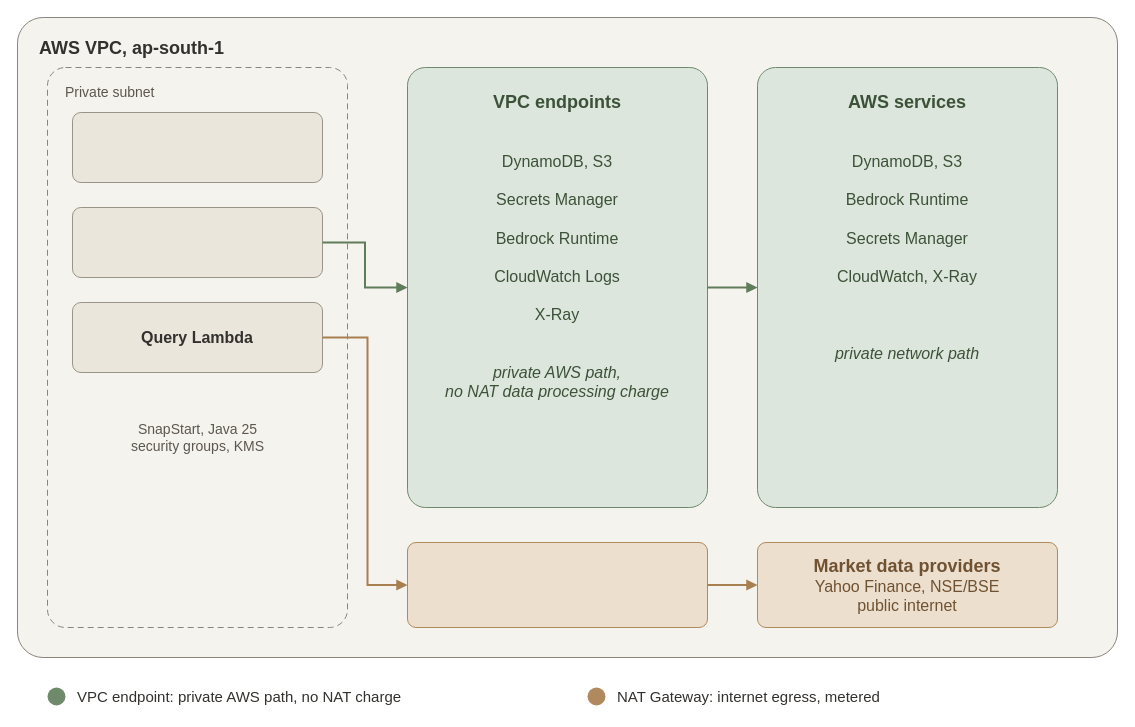
This 1135x727 diagram has some shape labels left out. The shapes that lost their labels are listed below. From the top down, each one's centre as x and y in pixels, then its label:
At (x=197, y=147): "Fetch Lambda".
At (x=197, y=242): "Insight Lambda".
At (x=557, y=585): "NAT Gateway external APIs only".
